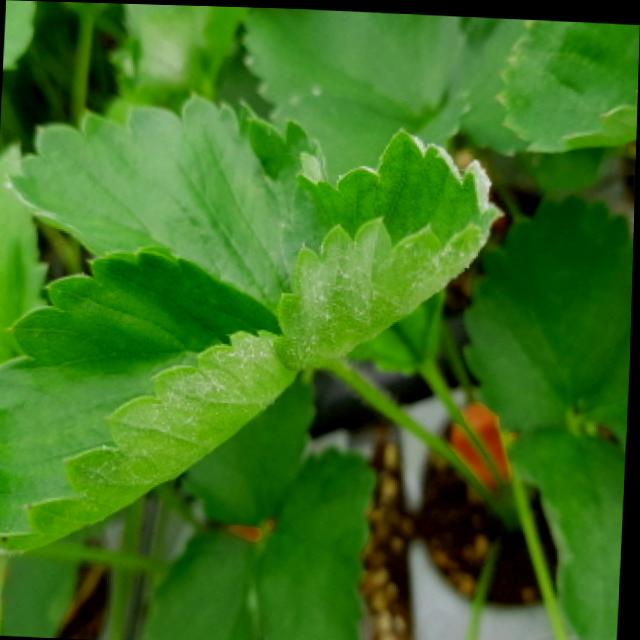Powdery Mildew Leaf: (0, 248, 301, 555), (279, 124, 502, 367), (3, 0, 35, 67)
